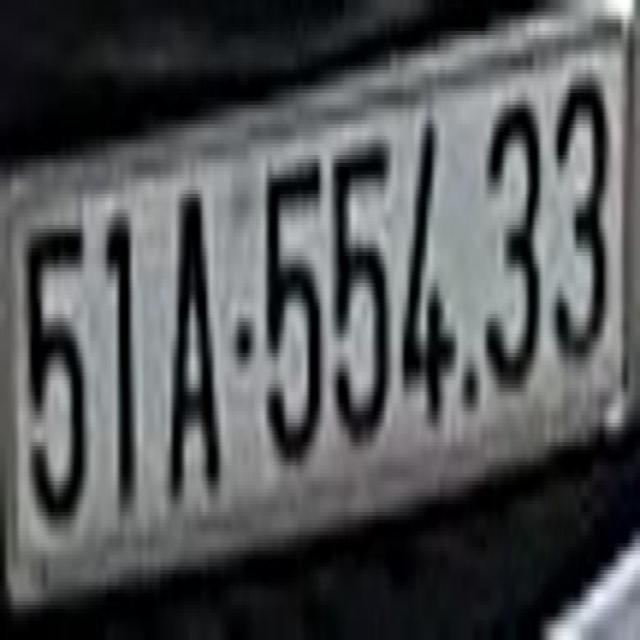1: (101, 171, 148, 566)
3: (550, 19, 614, 388), (484, 74, 546, 419)
4: (399, 89, 458, 458)
5: (259, 105, 326, 481), (23, 194, 94, 543), (331, 81, 394, 450)
A: (163, 148, 223, 540)
